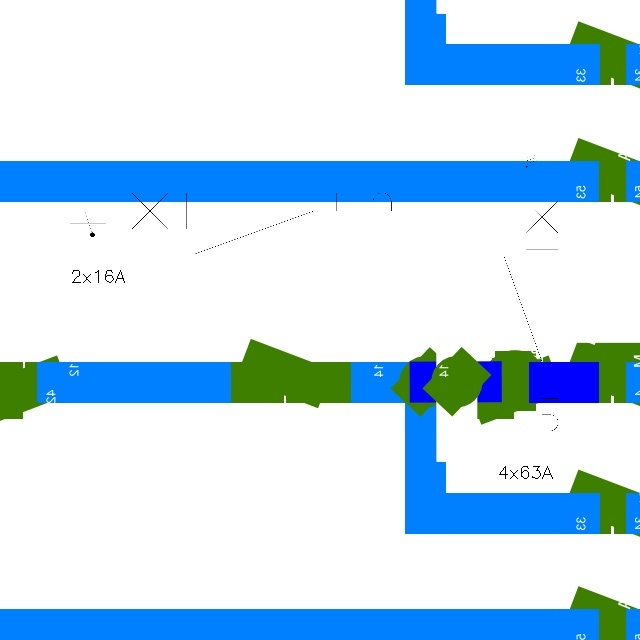interruptor_termomagnetico: (105, 185, 421, 262), (497, 177, 565, 458)
